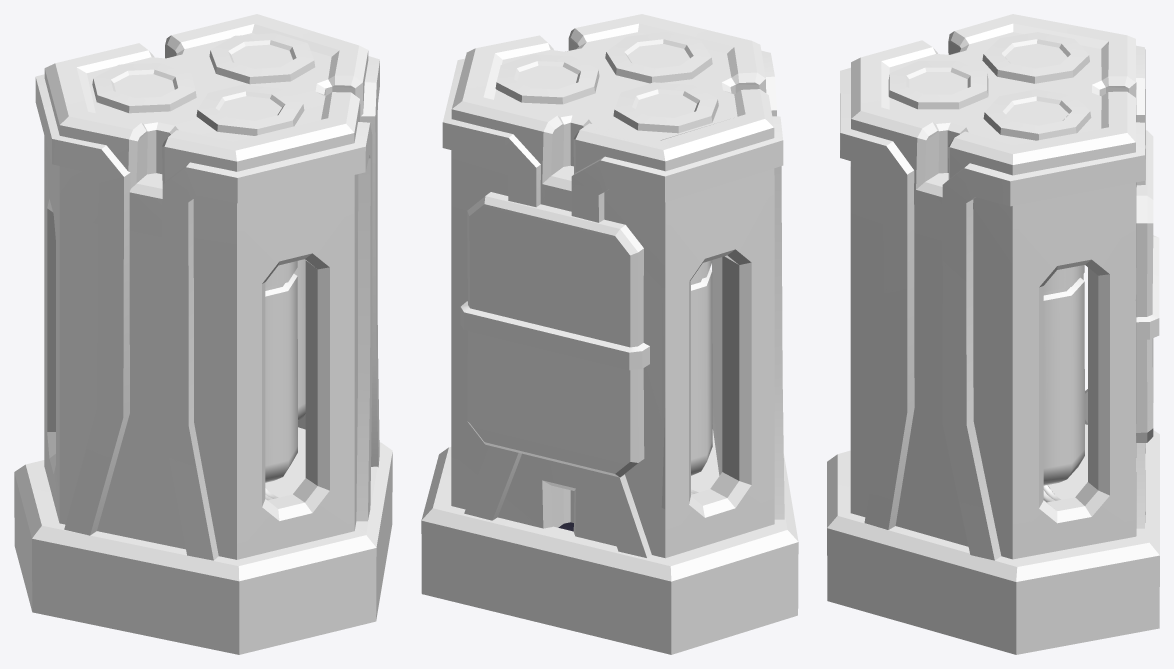
File: ElectricityBoxPurple.glb
3 views of the same model, side by side, from view 1: azimuth 30°, elevation 25°; view 2: azimuth 150°, elevation 25°; view 3: azimuth 270°, elevation 25° (orthographic).
Visible parts, largest first — view 1: DamageZoneHologram; view 2: DamageZoneHologram; view 3: DamageZoneHologram.
Part boxes in pixels (box(x1,y1,x2,y2)): DamageZoneHologram: box(14, 14, 392, 654); DamageZoneHologram: box(421, 14, 798, 654); DamageZoneHologram: box(827, 14, 1159, 654).
Size of the model in its own units: 0.5541 by 0.7209 by 0.4474.
Materials: 2 (1 with a texture image).
